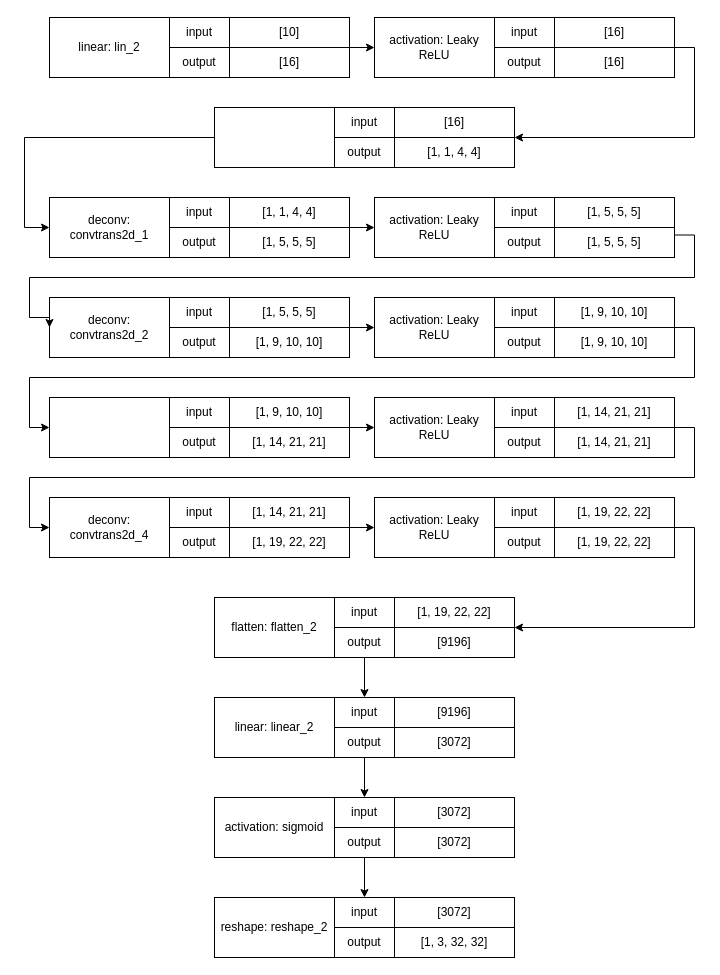
Some shapes in this 720 by 975 pixel diagram are drawn without their labels. The shapes that lost their labels are listed below. From the top down, each one's centre as x and y in pixels, then its label:
the point at 274,137: reshape: reshape_1
the point at 109,427: deconv: convtrans2d_3
